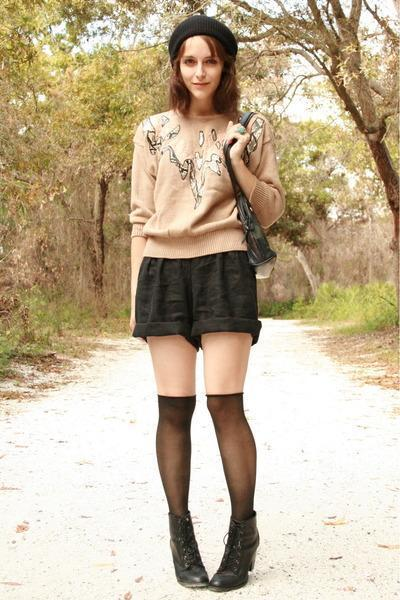bag: (228, 180, 275, 266)
hat: (171, 18, 242, 46)
shirt: (122, 108, 284, 288)
shoe: (170, 517, 259, 592)
shorts: (133, 250, 261, 347)
